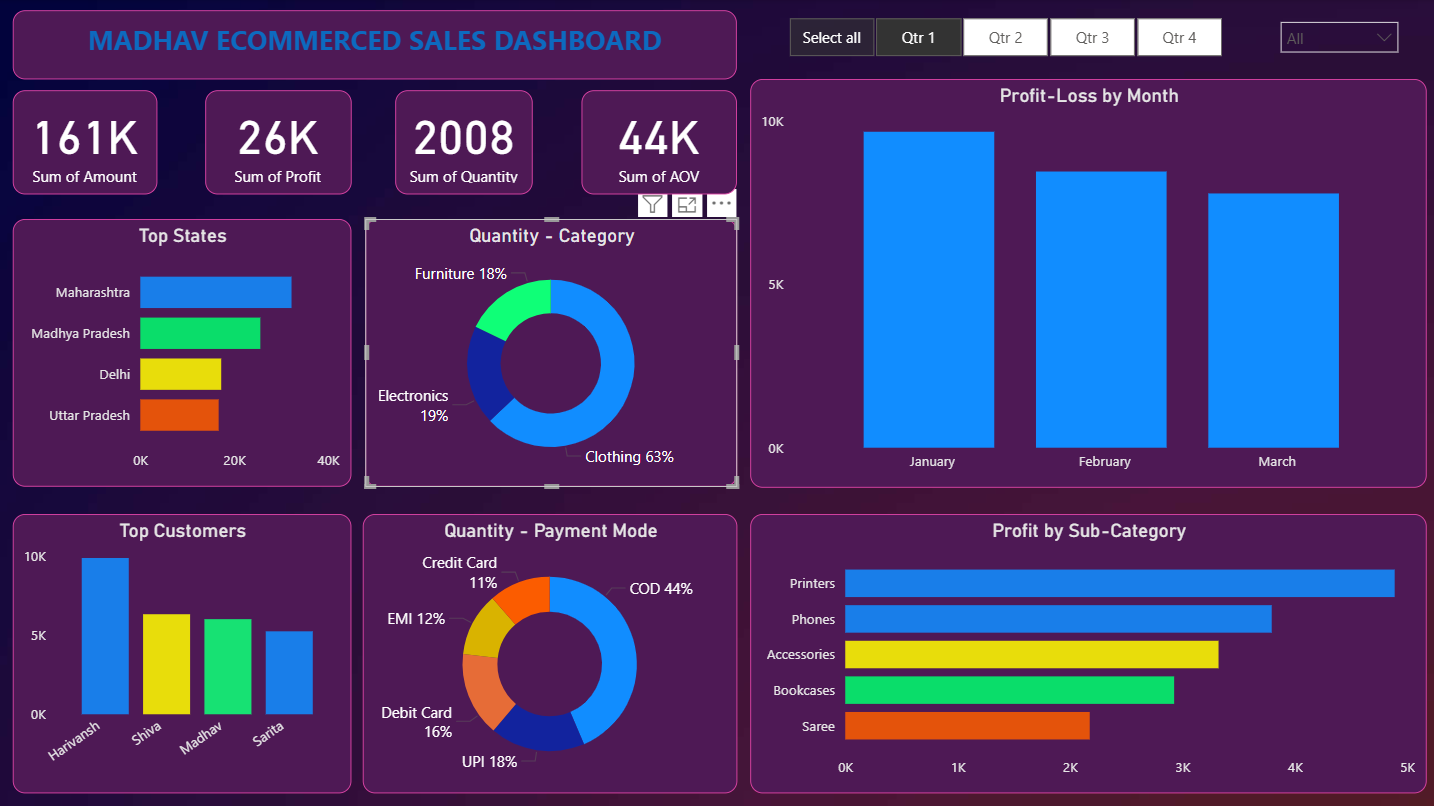

Layout of this report page (visuals, bound fields, positions):
{"tool":"powerbi","page":{"name":"Page 1","canvas":[1280,720],"ordinal":0},"visuals":[{"type":"textbox","box":[12.5,10,645,61.2],"z":0},{"type":"columnChart","title":" Profit-Loss by Month","fields":{"Y":["Sum(Details.Profit)"],"Category":["Orders.Order Date.Variation.Date Hierarchy.Month"]},"box":[668.8,71.2,602.5,363.8],"z":1000},{"type":"barChart","title":"Profit by Sub-Category","fields":{"Category":["Details.Sub-Category"],"Y":["Sum(Details.Profit)"]},"box":[668.8,458.8,602.5,248.8],"z":2000},{"type":"donutChart","title":"Quantity - Category","fields":{"Category":["Details.Category"],"Y":["Sum(Details.Quantity)"]},"box":[326.2,196.2,331.2,238.8],"z":3000},{"type":"donutChart","title":"Quantity - Payment Mode","fields":{"Y":["Sum(Details.Quantity)"],"Category":["Details.PaymentMode"]},"box":[323.8,458.8,333.8,248.8],"z":4000},{"type":"card","fields":{"Values":["Sum(Details.Amount)"]},"box":[12.5,81.2,128.8,92.5],"z":5000},{"type":"card","fields":{"Values":["Sum(Details.Profit)"]},"box":[183.8,81.2,130,92.5],"z":6000},{"type":"card","fields":{"Values":["Sum(Details.Quantity)"]},"box":[352.5,81.2,122.5,92.5],"z":7000},{"type":"card","fields":{"Values":["Sum(Details.AOV)"]},"box":[518.8,81.2,138.8,92.5],"z":8000},{"type":"barChart","title":"Top States","fields":{"Category":["Orders.State"],"Y":["Sum(Details.Amount)"]},"box":[12.5,196.2,301.2,238.8],"z":9000},{"type":"columnChart","title":"Top Customers","fields":{"Category":["Orders.CustomerName"],"Y":["Sum(Details.Amount)"]},"box":[12.5,458.8,301.2,248.8],"z":10000},{"type":"slicer","fields":{"Values":["Orders.Order Date.Variation.Date Hierarchy.Quarter"]},"box":[677.5,10,435,47.5],"z":11000},{"type":"slicer","fields":{"Values":["Orders.State"]},"box":[1131.2,10,125,47.5],"z":12000}]}

Visuals, with their boxes in screenshot pixels (x1, y1, x2, y2), scaled from the page's 1280x720 canvas onto the 1434x806 screenshot:
textbox: detection(14, 11, 737, 80)
" Profit-Loss by Month" columnChart: detection(749, 80, 1424, 487)
"Profit by Sub-Category" barChart: detection(749, 514, 1424, 792)
"Quantity - Category" donutChart: detection(365, 220, 736, 487)
"Quantity - Payment Mode" donutChart: detection(363, 514, 737, 792)
card - Sum(Details.Amount): detection(14, 91, 158, 194)
card - Sum(Details.Profit): detection(206, 91, 352, 194)
card - Sum(Details.Quantity): detection(395, 91, 532, 194)
card - Sum(Details.AOV): detection(581, 91, 737, 194)
"Top States" barChart: detection(14, 220, 351, 487)
"Top Customers" columnChart: detection(14, 514, 351, 792)
slicer - Orders.Order Date.Variation.Date Hierarchy.Quarter: detection(759, 11, 1246, 64)
slicer - Orders.State: detection(1267, 11, 1407, 64)
